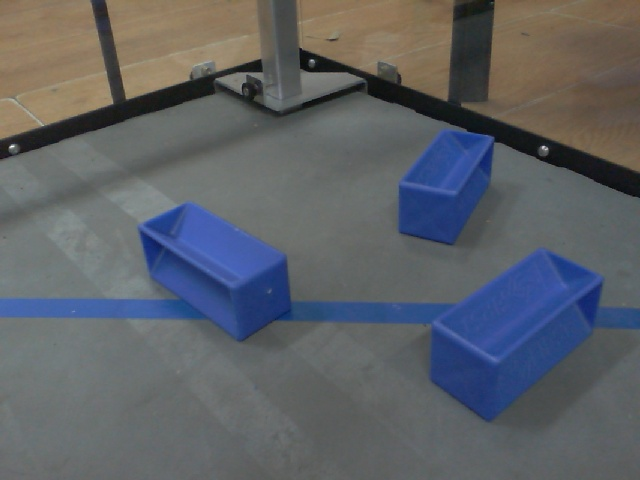BlueSample: (426, 246, 610, 433), (135, 198, 297, 345), (395, 123, 499, 245)
